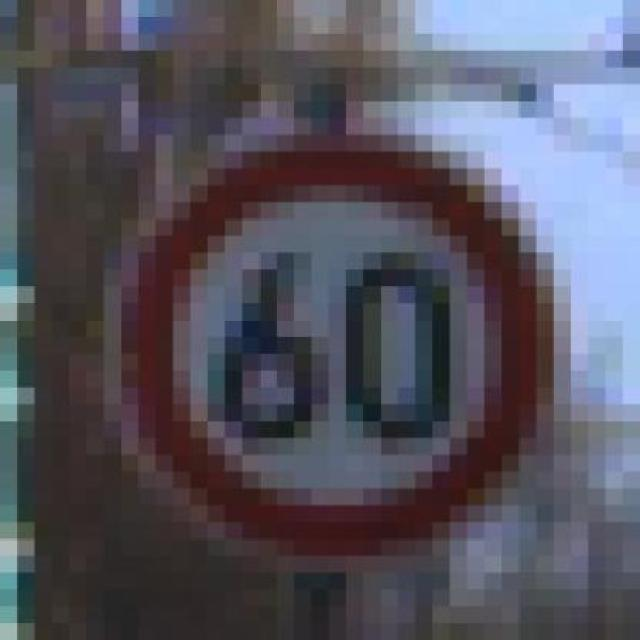forb_speed_over_60: (119, 130, 555, 562)
